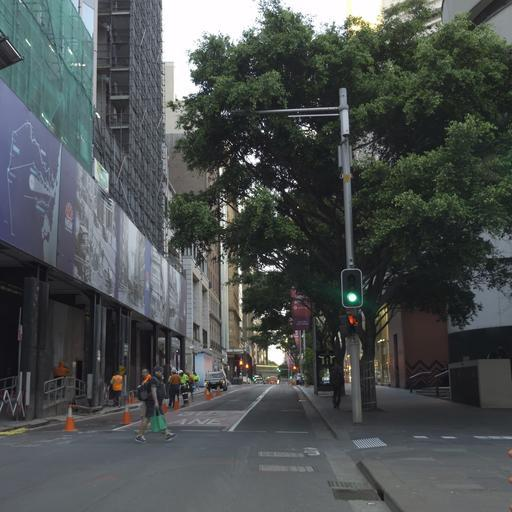Street light: (223, 86, 366, 423), (0, 25, 23, 74), (340, 267, 363, 308)
